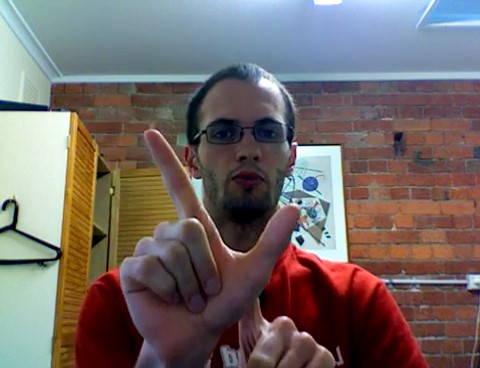Y: (105, 123, 369, 368)
